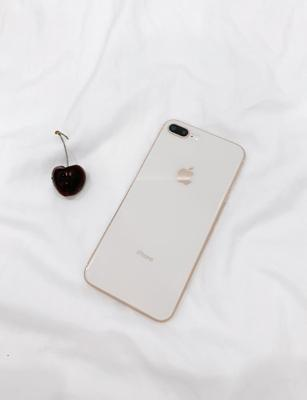Mobile Phone: (83, 117, 245, 322)
